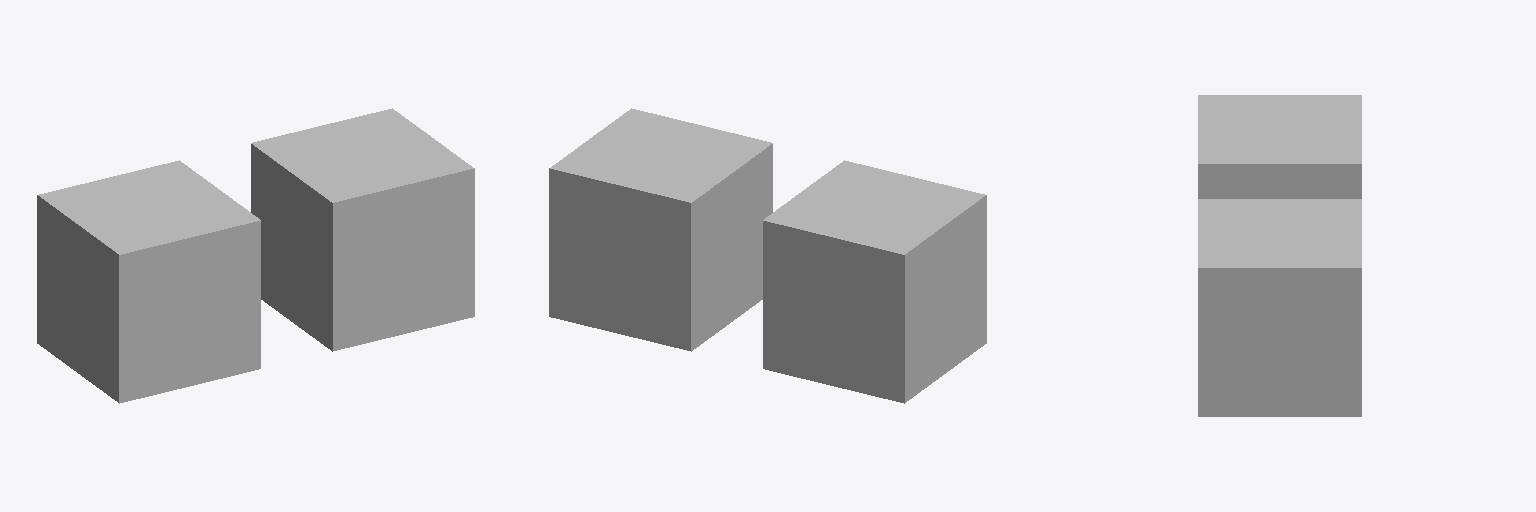
Rendered from doppelkisteMitOhneTex.obj.
3 views of the same model, side by side, from view 1: azimuth 30°, elevation 25°; view 2: azimuth 150°, elevation 25°; view 3: azimuth 270°, elevation 25° (orthographic).
Parts seen in each view (by area): view 1: Cube, Cube.001; view 2: Cube, Cube.001; view 3: Cube.001, Cube.
Boxes of the visible parts, x1=… form: Cube: x1=37, y1=160, x2=260, y2=403; Cube.001: x1=251, y1=108, x2=474, y2=351; Cube: x1=763, y1=160, x2=986, y2=403; Cube.001: x1=549, y1=108, x2=772, y2=351; Cube.001: x1=1198, y1=199, x2=1361, y2=416; Cube: x1=1198, y1=95, x2=1361, y2=198.
Bounding box in the file's own units: 5 × 2 × 2.